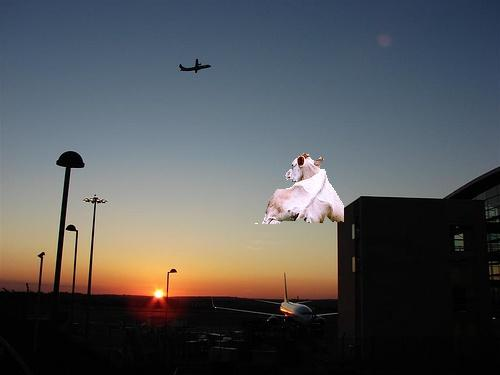tampered: (256, 154, 344, 224)
